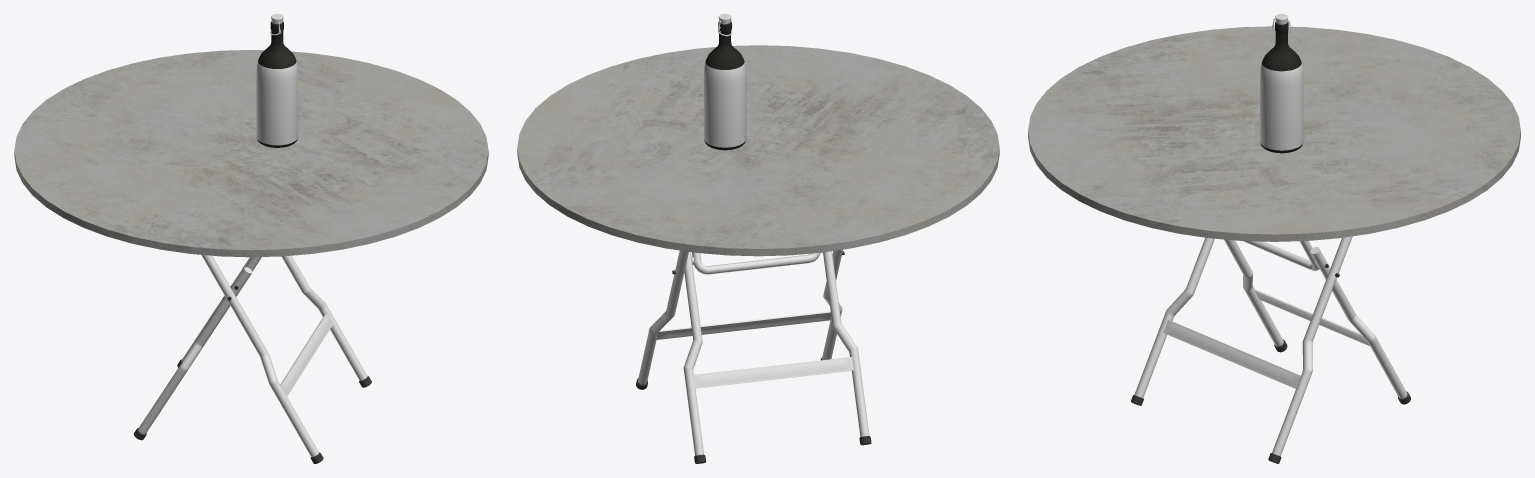
The model's file is Table.fbx.
3 views of the same model, side by side, from view 1: azimuth 30°, elevation 25°; view 2: azimuth 150°, elevation 25°; view 3: azimuth 270°, elevation 25° (orthographic). The views are drawn at different scales.
Visible parts, largest first — view 1: Table; view 2: Table; view 3: Table.
Part boxes in pixels (bbox=[...]): Table: bbox=[14, 14, 488, 463]; Table: bbox=[517, 14, 999, 463]; Table: bbox=[1028, 14, 1520, 463].
Bounding box in the file's own units: 1.14 × 1.04 × 1.14.
